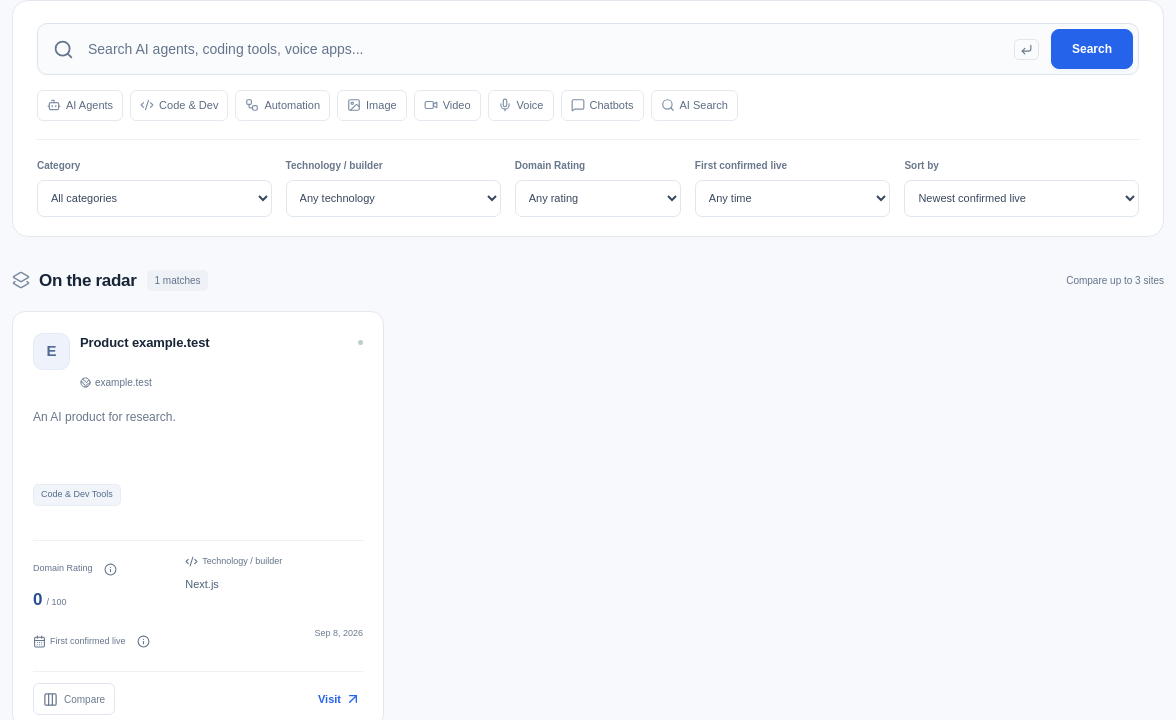
discovery interactions › clears an unsubmitted draft together with applied filters
Click the button "AI Agents" at (80, 105), box left=37, top=90, right=123, bottom=120
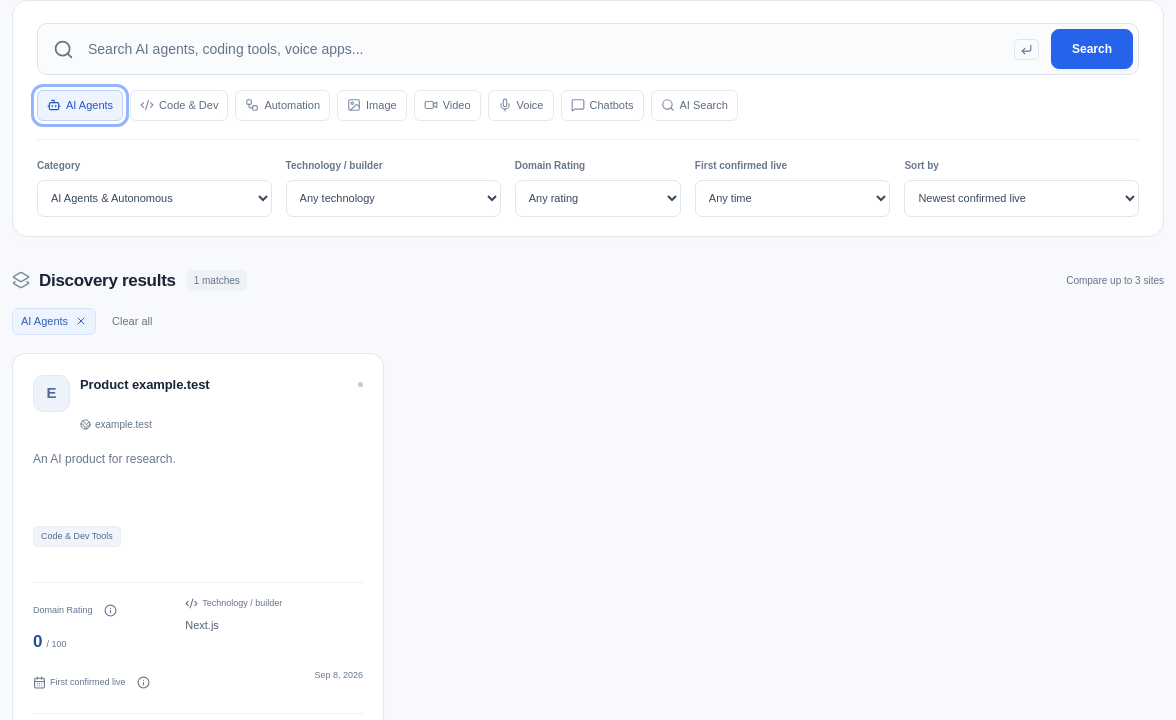
Type "unsubmitted draft" into the search field at (544, 49), box left=74, top=29, right=1014, bottom=69
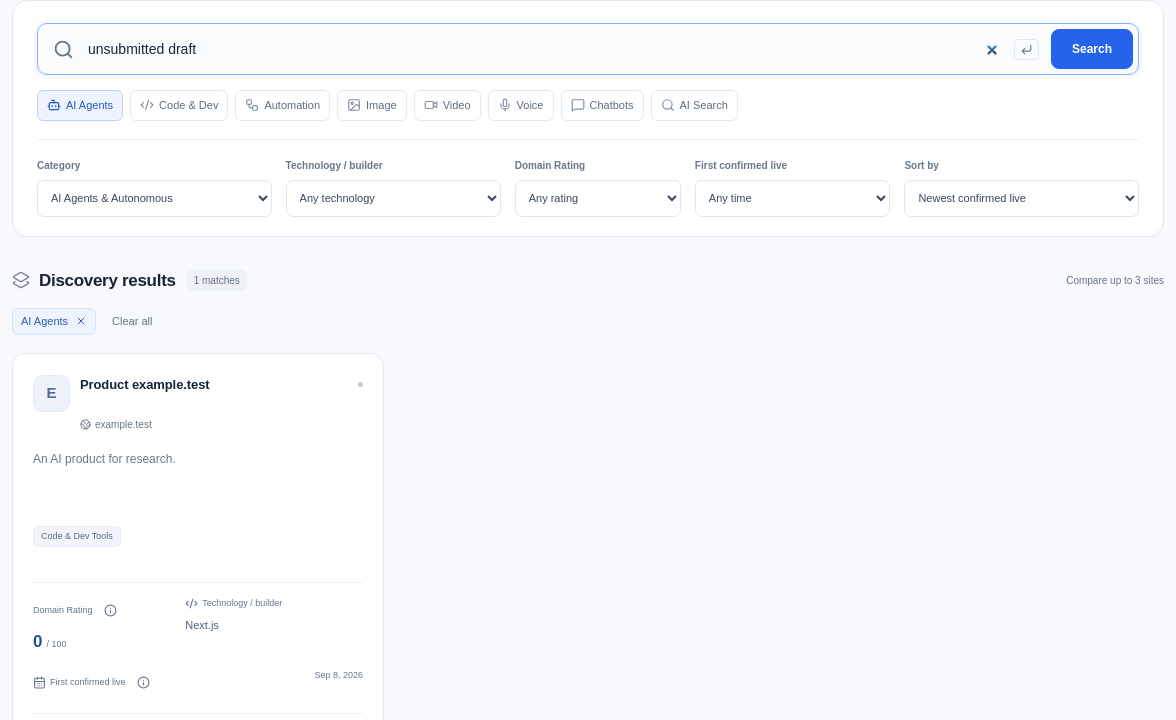
Click the button "Clear all" at (132, 321), box left=103, top=308, right=162, bottom=334
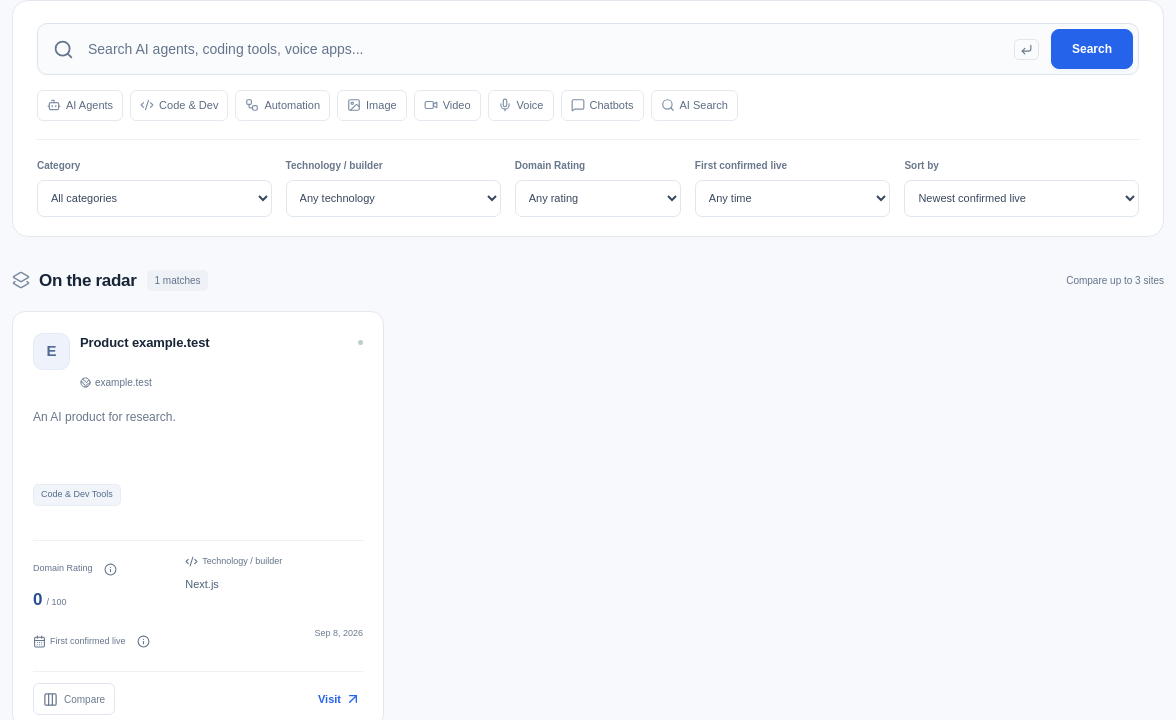
Now the search field is empty, box left=74, top=29, right=1014, bottom=69
